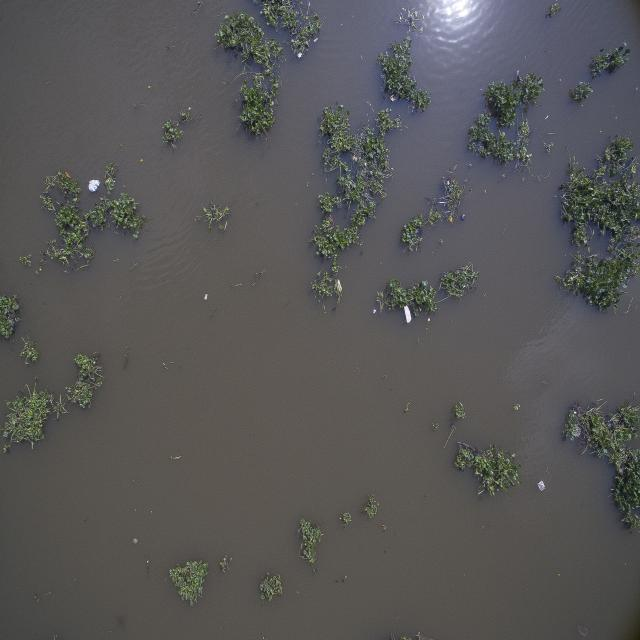debris: (86, 180, 103, 196), (402, 302, 412, 324), (537, 478, 547, 491), (336, 276, 343, 294), (543, 113, 551, 124), (295, 50, 304, 58), (389, 93, 398, 101), (572, 406, 579, 415), (373, 307, 379, 315)
plastic: (130, 534, 140, 548), (202, 292, 210, 302), (459, 212, 467, 221), (313, 35, 320, 44), (416, 226, 423, 235), (389, 165, 395, 172)
